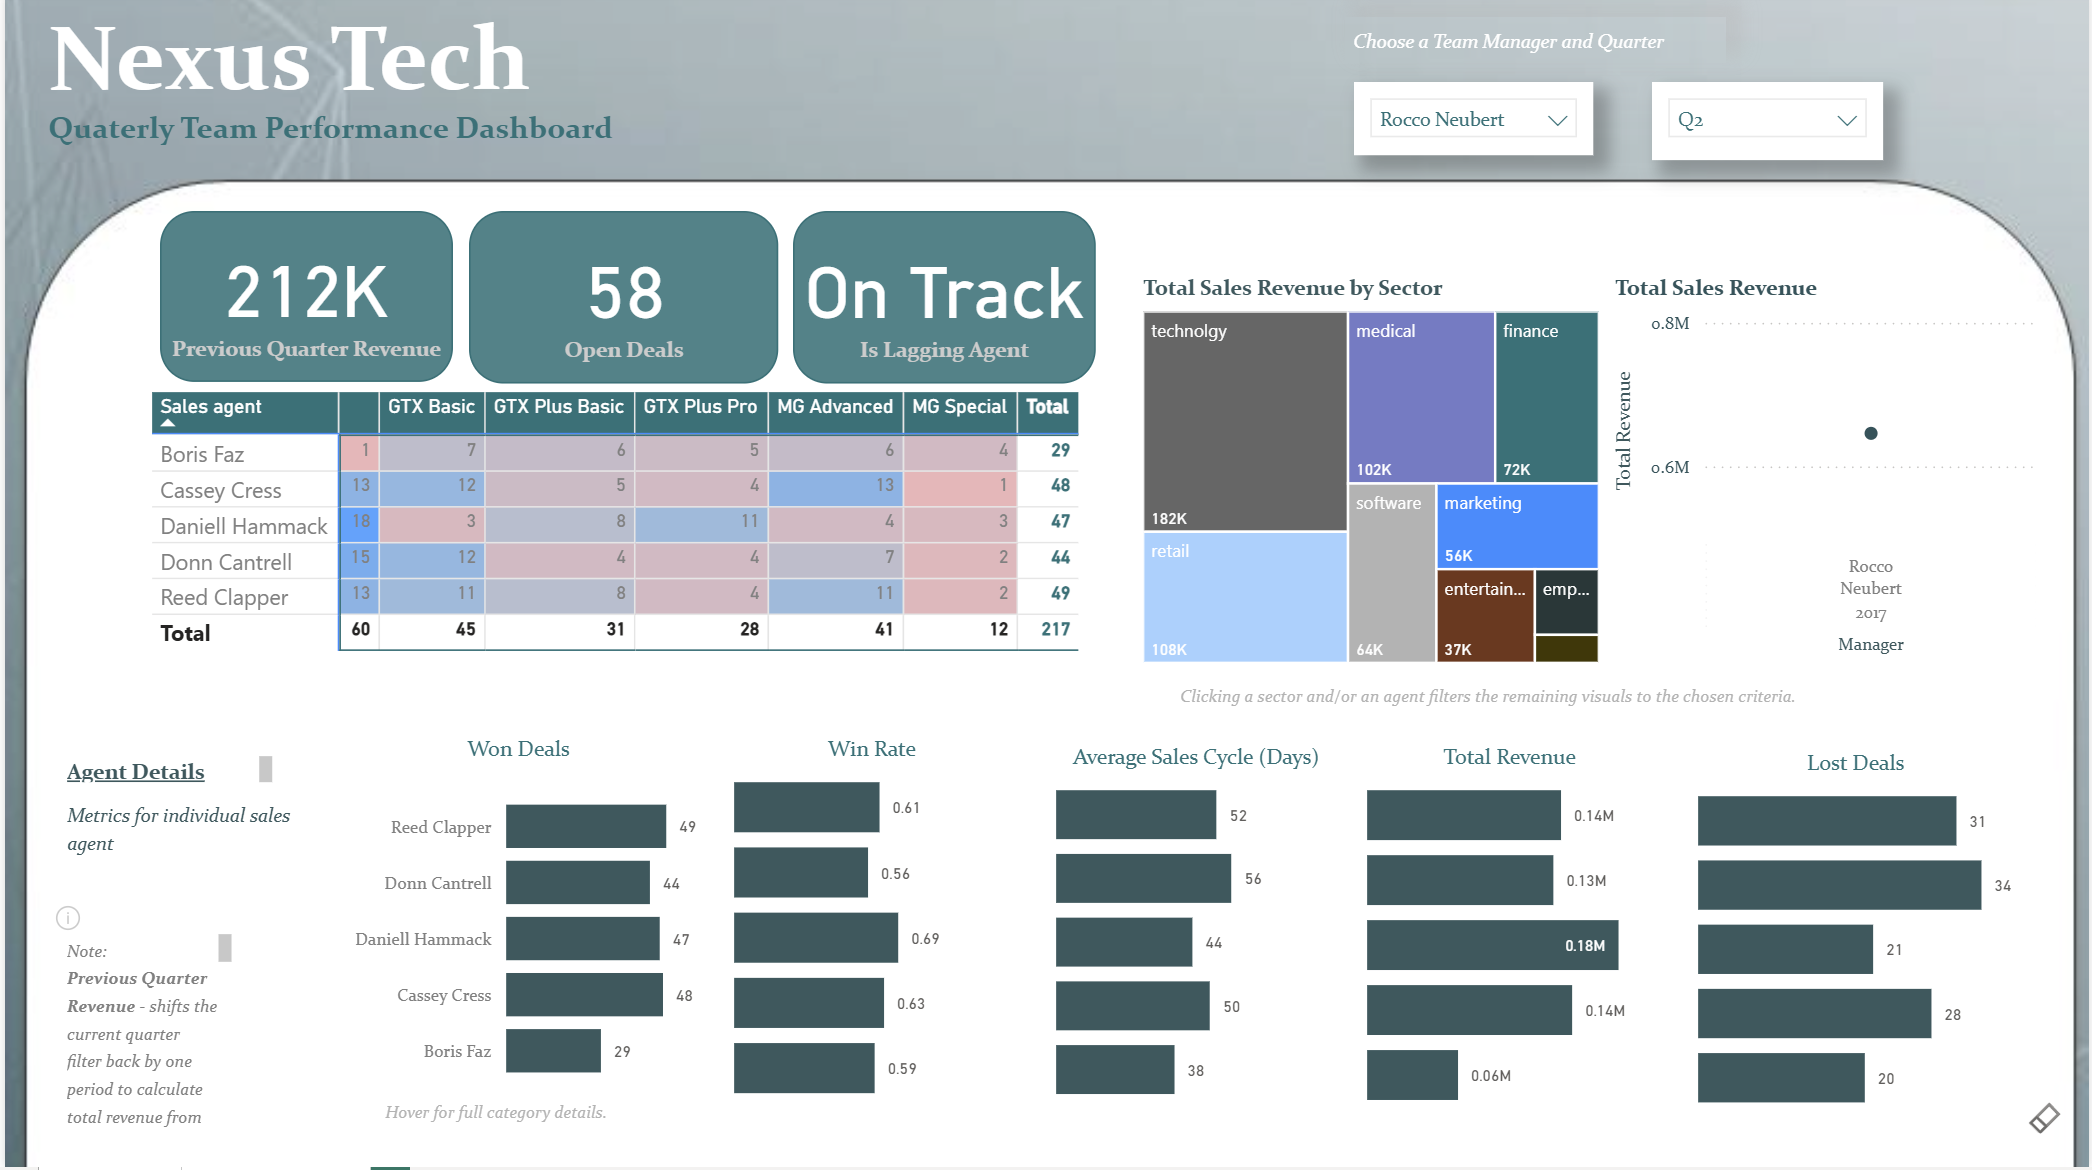

The dashboard page shown, as its layout file describes it:
{"tool":"powerbi","page":{"name":"Page 1 - Team Performance ","canvas":[1280,720],"ordinal":1},"visuals":[{"type":"clusteredBarChart","title":"Won Deals ","fields":{"Category":["sales_teams.Sales agent"],"Y":["Measure table.Won Deals"]},"box":[200.6,454.8,229.3,227],"z":0},{"type":"clusteredBarChart","title":"Win Rate ","fields":{"Category":["sales_teams.Sales agent"],"Y":["Measure table.Win Rate"]},"box":[443.1,454.8,179.3,226.3],"z":1000},{"type":"clusteredBarChart","title":"Average Sales Cycle (Days)","fields":{"Category":["sales_teams.Sales agent"],"Y":["Measure table.Avg Sales Cycle (Days)"]},"box":[640.7,459.2,182.2,221.9],"z":2000},{"type":"clusteredBarChart","title":"Total Revenue ","fields":{"Category":["sales_teams.Sales agent"],"Y":["Measure table.Total Revenue"]},"box":[831.8,459.2,185.2,225.6],"z":3000},{"type":"clusteredBarChart","title":"Lost Deals ","fields":{"Category":["sales_teams.Sales agent"],"Y":["Measure table.Lost Deals"]},"box":[1035.3,462.9,203.5,223.4],"z":4000},{"type":"textbox","box":[33.2,462.6,136.4,26.4],"z":5000},{"type":"textbox","box":[33.2,489,148.1,64.5],"z":6000},{"type":"treemap","title":"Total Sales Revenue by Sector","fields":{"Group":["accounts.sector"],"Values":["Measure table.Total Revenue"]},"box":[694.2,171.4,290,243.9],"z":7000},{"type":"slicer","title":"Choose a Team Manager","fields":{"Values":["sales_teams.Manager"]},"box":[828.8,53.6,147,44.8],"z":8000},{"type":"slicer","fields":{"Values":["Calendar.Quarter"]},"box":[1011.8,53.6,141.8,47.8],"z":9000},{"type":"pivotTable","fields":{"Rows":["sales_teams.Sales agent"],"Columns":["products.product"],"Values":["Measure table.Won Deal Count"]},"box":[85.4,239,599.6,190.4],"z":10000},{"type":"card","fields":{"Values":["Measure table.Revenue Prior Quarter"]},"box":[95.2,132.7,180,105.1],"z":11000},{"type":"card","fields":{"Values":["Measure table.Open Deals"]},"box":[285.1,132.7,190.4,106.3],"z":12000},{"type":"textbox","box":[21.5,0,333.1,82.6],"z":13000},{"type":"textbox","box":[21.5,65.3,393.4,34.7],"z":14000},{"type":"textbox","box":[823.1,13.2,233.9,28.1],"z":15000},{"type":"textbox","box":[33.2,571.9,110.6,129.6],"z":16000},{"type":"actionButton","box":[21.3,549.6,44.8,34.5],"z":17000},{"type":"textbox","box":[716.9,415.3,446,60.8],"z":18000},{"type":"textbox","box":[228.5,670.9,173.2,33.2],"z":19000},{"type":"actionButton","box":[1238.9,673.1,27.9,33.1],"z":20000},{"type":"card","fields":{"Values":["Measure table.Is Lagging Agent"]},"box":[484.1,132.7,186.1,106.3],"z":21000},{"type":"lineChart","title":"Total Sales Revenue","fields":{"Y":["Measure Table.Total Revenue"],"Category":["Calendar.Date.Variation.Date Hierarchy.Year","sales_teams.Manager"]},"box":[984.2,171.4,268.5,239],"z":22000}]}

Visuals, with their boxes in screenshot pixels (x1, y1, x2, y2), scaled from the page's 1280x720 canvas onto the 2092x1170 screenshot:
"Won Deals " clusteredBarChart: crop(328, 739, 703, 1108)
"Win Rate " clusteredBarChart: crop(724, 739, 1017, 1107)
"Average Sales Cycle (Days)" clusteredBarChart: crop(1047, 746, 1345, 1107)
"Total Revenue " clusteredBarChart: crop(1359, 746, 1662, 1113)
"Lost Deals " clusteredBarChart: crop(1692, 752, 2025, 1115)
textbox: crop(54, 752, 277, 795)
textbox: crop(54, 795, 296, 899)
"Total Sales Revenue by Sector" treemap: crop(1135, 279, 1609, 675)
"Choose a Team Manager" slicer: crop(1355, 87, 1595, 160)
slicer - Calendar.Quarter: crop(1654, 87, 1885, 165)
pivotTable - sales_teams.Sales agent x products.product: crop(140, 388, 1120, 698)
card - Measure table.Revenue Prior Quarter: crop(156, 216, 450, 386)
card - Measure table.Open Deals: crop(466, 216, 777, 388)
textbox: crop(35, 0, 580, 134)
textbox: crop(35, 106, 678, 162)
textbox: crop(1345, 21, 1728, 67)
textbox: crop(54, 929, 235, 1140)
actionButton: crop(35, 893, 108, 949)
textbox: crop(1172, 675, 1901, 774)
textbox: crop(373, 1090, 657, 1144)
actionButton: crop(2025, 1094, 2070, 1148)
card - Measure table.Is Lagging Agent: crop(791, 216, 1095, 388)
"Total Sales Revenue" lineChart: crop(1609, 279, 2047, 667)
